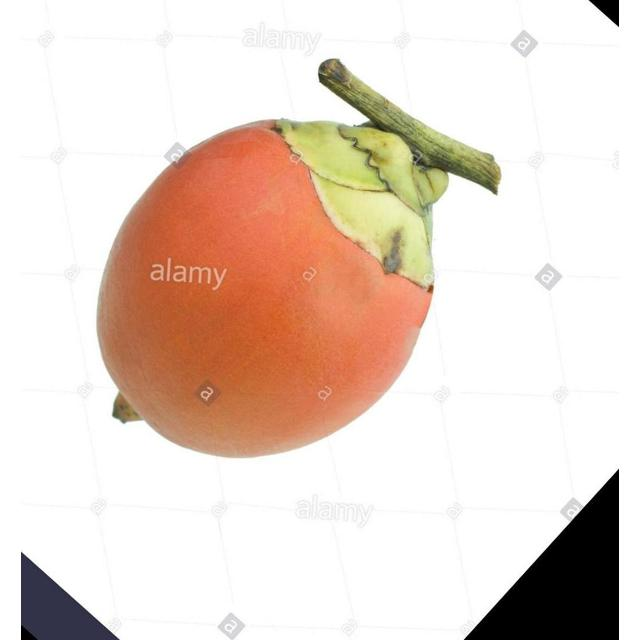good: (95, 60, 501, 462)
